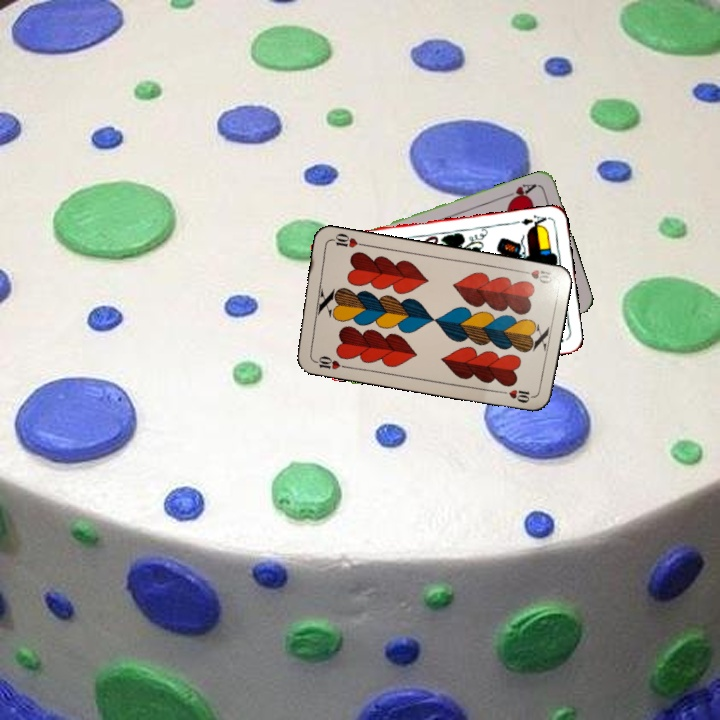EA: (517, 211, 549, 231)
H10: (515, 265, 556, 287), (308, 352, 349, 372)
HA: (500, 180, 539, 205)
